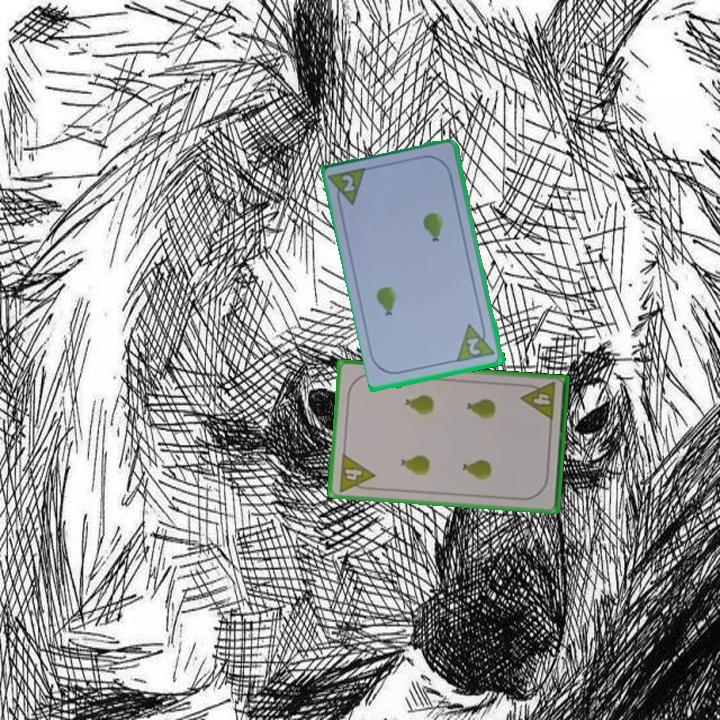2p: (454, 318, 499, 365), (338, 171, 358, 195)
4p: (335, 450, 377, 495), (518, 379, 558, 423)
